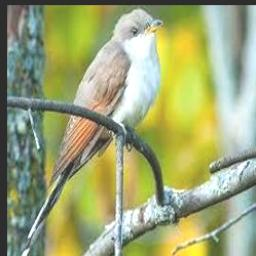Cuckoo: (16, 7, 162, 256)
